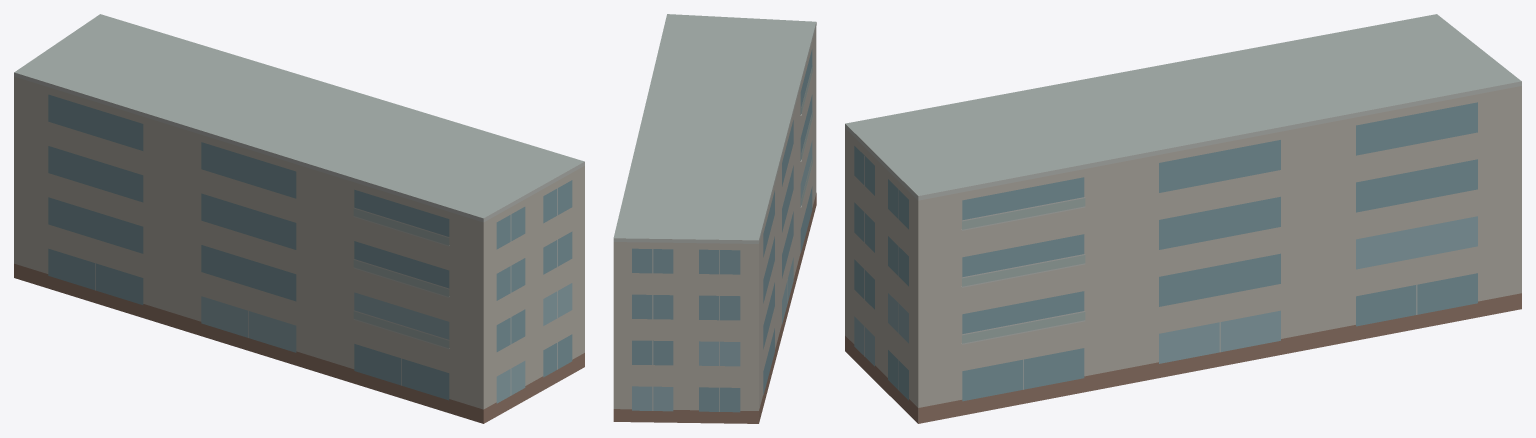
File: survey-upis-32593809.glb
The picture shows the model from 3 angles, left to right: view 1: azimuth 30°, elevation 25°; view 2: azimuth 150°, elevation 25°; view 3: azimuth 270°, elevation 25°; orthographic projection. The views are drawn at different scales.
Parts seen in each view (by area): view 1: survey-upis-32593809.tmp; view 2: survey-upis-32593809.tmp; view 3: survey-upis-32593809.tmp.
Part boxes in pixels (x1=…): survey-upis-32593809.tmp: x1=14, y1=14, x2=584, y2=423; survey-upis-32593809.tmp: x1=613, y1=14, x2=816, y2=423; survey-upis-32593809.tmp: x1=845, y1=14, x2=1521, y2=423.
Bounding box in the file's own units: 20.93 × 12.2 × 32.86.
